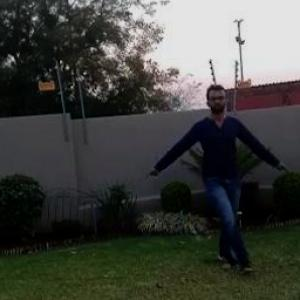land: (158, 88, 290, 268)
